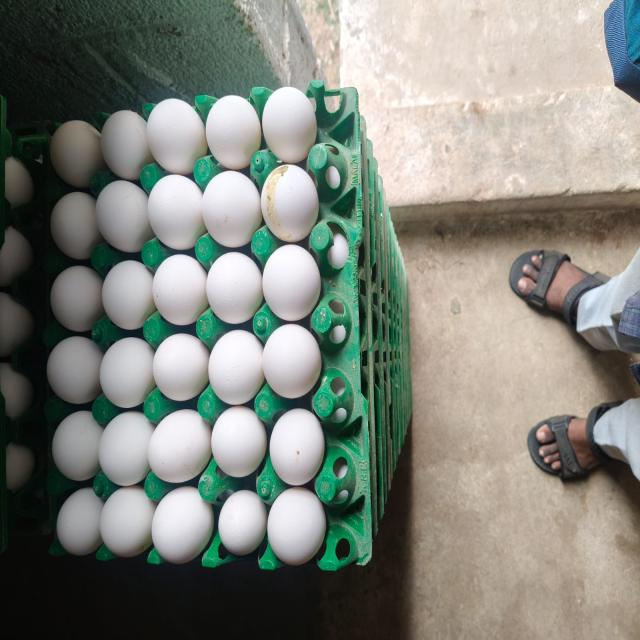egg_tray: (44, 112, 213, 561), (43, 115, 154, 559), (306, 83, 371, 569), (0, 98, 52, 550), (357, 119, 410, 534), (358, 117, 410, 535), (0, 99, 48, 548), (359, 141, 411, 530), (358, 116, 384, 535), (364, 140, 391, 528), (367, 141, 393, 520), (381, 190, 412, 472), (372, 176, 397, 492), (372, 189, 396, 502), (384, 202, 412, 460), (383, 225, 410, 470), (388, 229, 412, 461), (252, 150, 278, 192), (176, 254, 203, 292), (258, 461, 273, 495), (254, 234, 269, 252), (158, 517, 173, 533), (126, 112, 144, 125), (195, 279, 206, 300), (190, 182, 200, 193), (202, 532, 210, 544), (127, 182, 136, 189), (140, 189, 145, 198), (186, 287, 189, 295), (173, 465, 176, 472), (258, 255, 263, 259), (363, 354, 365, 363), (144, 201, 145, 217), (172, 477, 185, 478), (104, 137, 108, 140), (185, 178, 189, 181), (115, 212, 118, 215), (138, 199, 141, 202), (169, 273, 172, 276), (200, 229, 203, 232), (48, 521, 50, 525), (174, 269, 178, 271), (393, 405, 395, 408), (129, 377, 131, 379), (370, 397, 371, 401), (363, 203, 364, 207), (178, 437, 180, 439), (166, 314, 170, 315), (172, 273, 176, 274), (362, 300, 363, 303), (380, 183, 381, 186), (142, 218, 144, 219), (120, 212, 122, 213), (180, 176, 182, 177), (258, 232, 260, 233), (187, 451, 188, 452), (163, 336, 164, 337), (256, 402, 257, 403), (338, 471, 339, 472), (381, 514, 382, 515), (174, 527, 174, 530), (272, 498, 272, 499), (262, 323, 266, 323)
